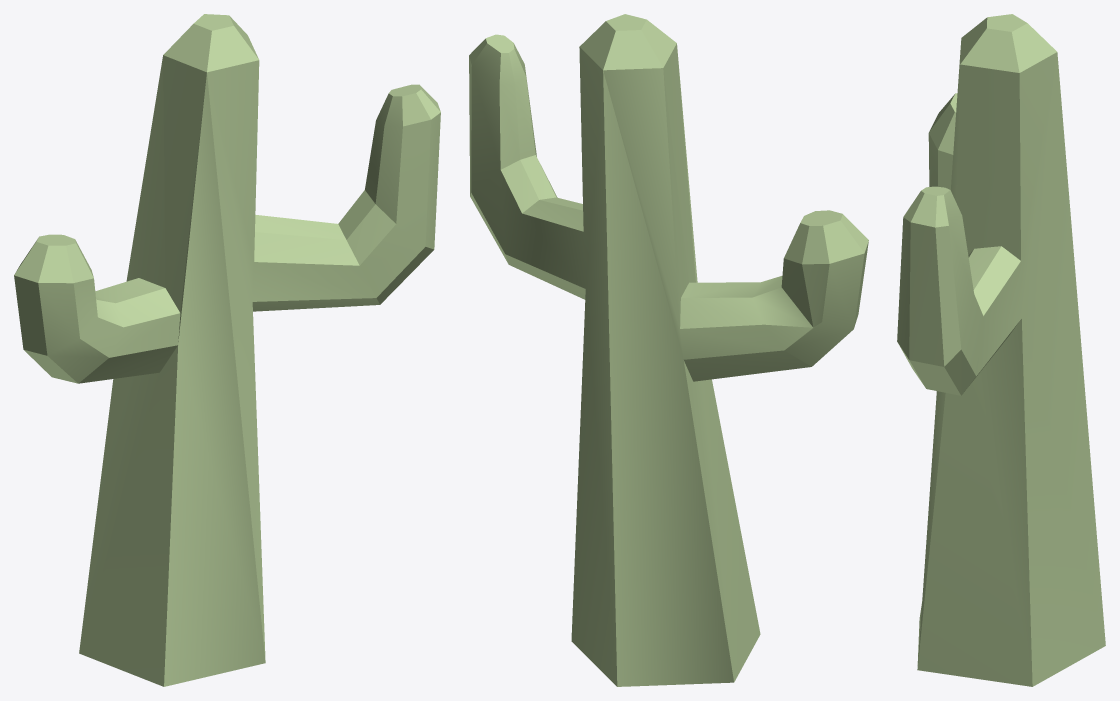
Rendered from Cactus_01.fbx.
3 views of the same model, side by side, from view 1: azimuth 30°, elevation 25°; view 2: azimuth 150°, elevation 25°; view 3: azimuth 270°, elevation 25° (orthographic). The views are drawn at different scales.
Visible parts, largest first — view 1: Cactus_01; view 2: Cactus_01; view 3: Cactus_01.
Part boxes in pixels (box(x1,y1,x2,y2)): Cactus_01: box(14, 14, 440, 686); Cactus_01: box(469, 14, 868, 686); Cactus_01: box(897, 14, 1105, 686).
Size of the model in its own units: 120 by 172 by 50.78.
